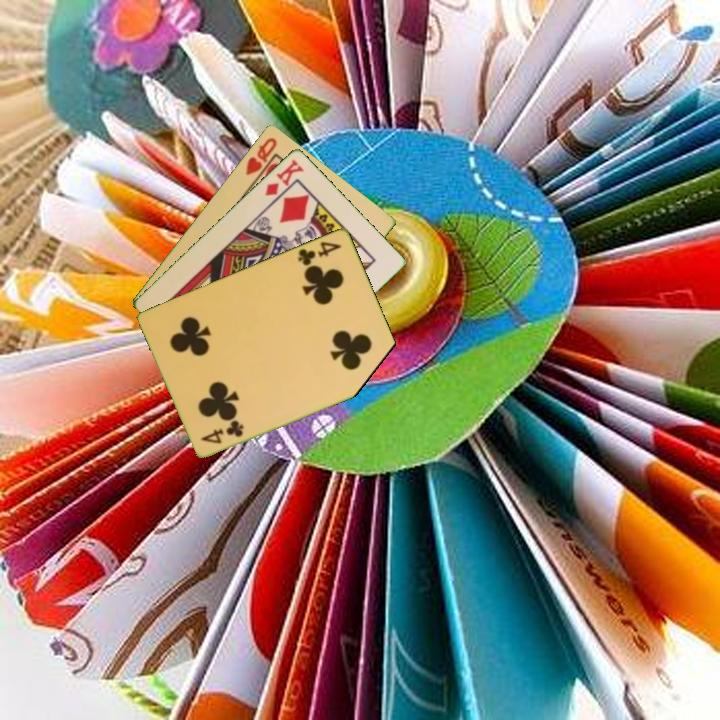4c: (294, 237, 345, 268), (197, 417, 247, 446)
Kd: (261, 155, 307, 199)
Qh: (242, 133, 280, 185)
